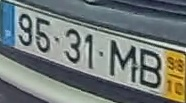1: (83, 32, 94, 70)
3: (63, 27, 82, 64)
5: (34, 15, 51, 54)
9: (17, 12, 33, 48)
B: (138, 47, 162, 89)
M: (109, 38, 137, 85)
